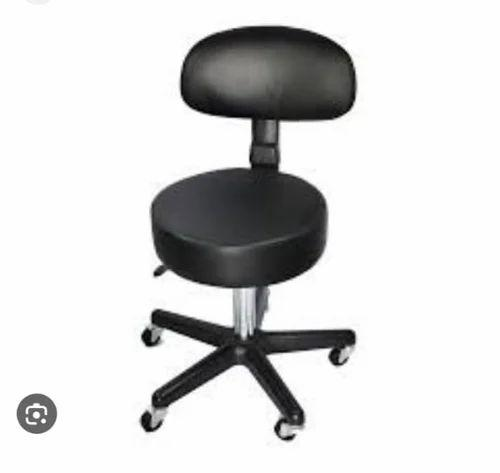chair: (138, 23, 358, 441)
